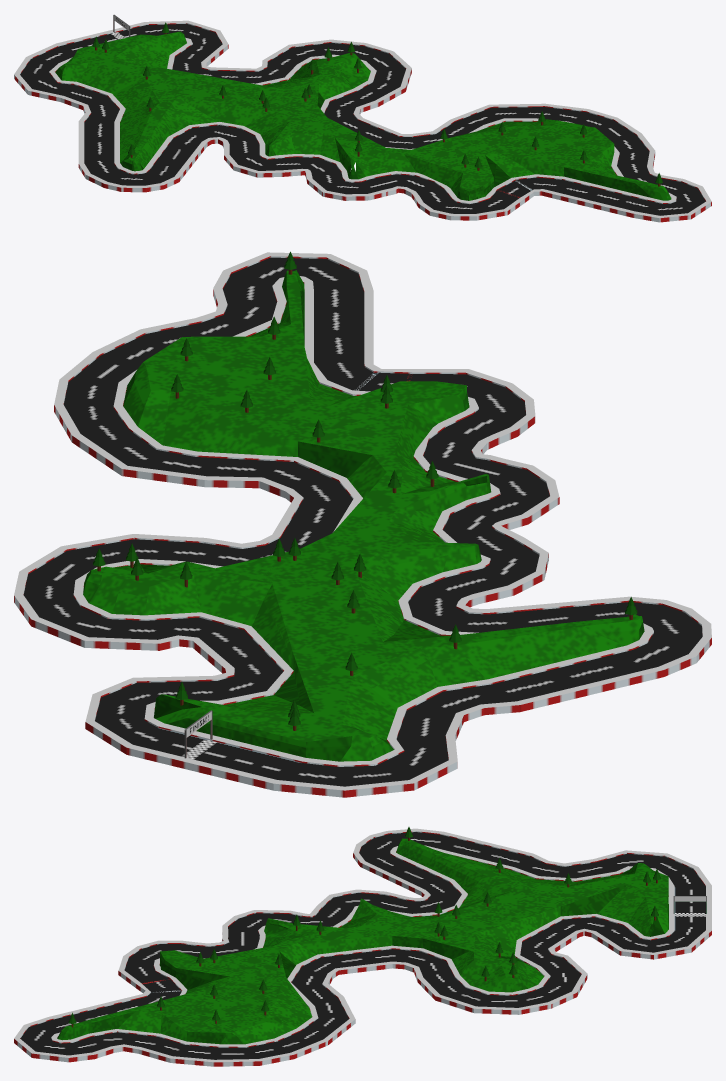
File: yoshiMap.fbx
3 renders of one model, top to bottom at view 1: azimuth 30°, elevation 25°; view 2: azimuth 150°, elevation 25°; view 3: azimuth 270°, elevation 25°, orthographic. The views are drawn at different scales.
Visible parts, largest first — view 1: cuboid, cuboid_1; view 2: cuboid, cuboid_1; view 3: cuboid, cuboid_1.
Part boxes in pixels (x1,y1,x2,y2): cuboid: (14,20,711,222); cuboid_1: (55,31,671,200); cuboid: (14,252,711,797); cuboid_1: (83,270,644,761); cuboid: (14,828,711,1066); cuboid_1: (57,838,668,1044).
Size of the model in its own units: 1757 by 100 by 2217.
4 materials, 4 textured.
